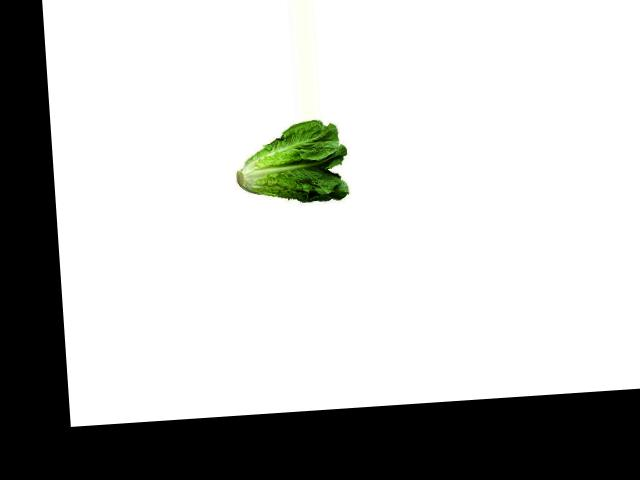lettuce: (230, 119, 350, 209)
